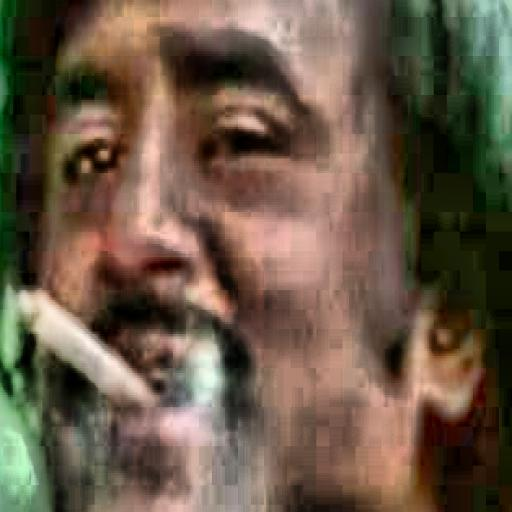Merokok: (18, 293, 152, 405)
Rokok: (0, 0, 512, 512)
